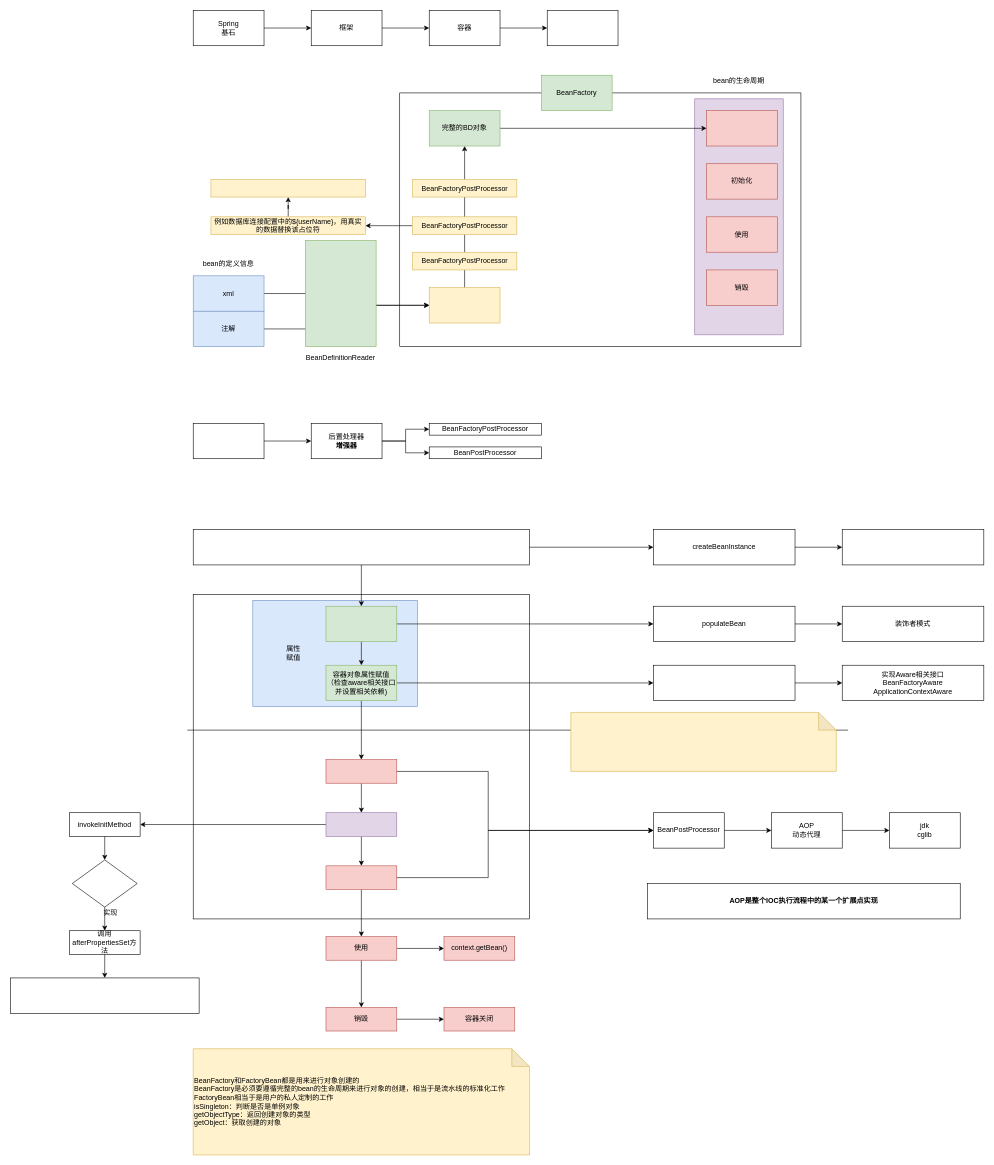
This 994x1165 diagram has some shape labels left out. The shapes that lost their labels are listed below. From the top down, each one's centre as x and y in pixels, then its label:
At point (582, 28): "生态".
At point (741, 128): "实例化".
At point (288, 188): "invokeBeanFactoryPostProcessors".
At point (340, 293): "接口 约束 规范".
At point (464, 305): "BeanDefinition bean的定义信息".
At point (228, 441): "PostProcessor".
At point (361, 547): "实例化（在堆内存中申请空间，对象的属性一般是默认值） 反射".
At point (913, 547): "获取Class 获取构造器 通过构造器实例化对象".
At point (361, 624): "自定义属性赋值 (对象属性赋值)".
At point (724, 683): "invokeAwareMethods".
At point (703, 741): "一般情况下，当完成对象的创建和属性的赋值之后，对象就可以直接拿来进行使用了，但是在Spring框架中，创建好对象之后还要考虑一件事：对象增强的操作".
At point (361, 771): "执行前置处理方法".
At point (361, 824): "执行初始化方法".
At point (104, 883): "判断bean是否实现InitializingBean".
At point (361, 877): "执行后置处理方法".
At point (104, 995): "由于bean对象的整个生命周期都是由容器来控制的，用户没办法进行干预，所以此时如果用户想进行操作的话，只能在此处进行操作，给任意的属性赋值，调用任意的方法".
